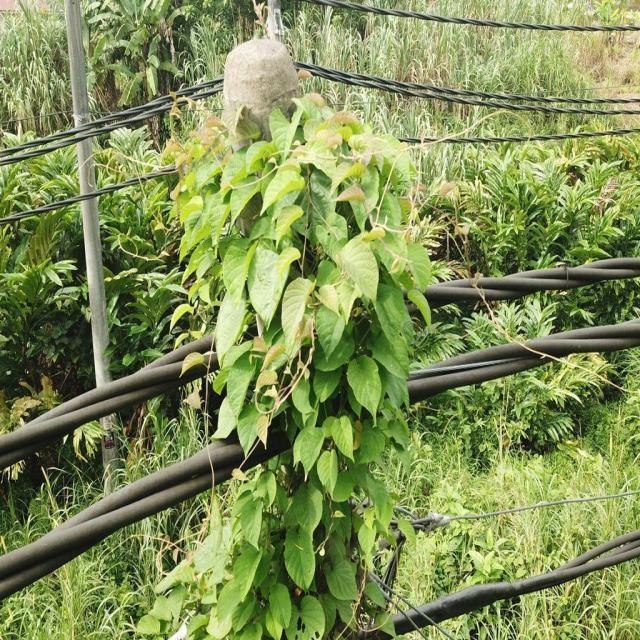critical vegetation: (129, 60, 460, 609)
